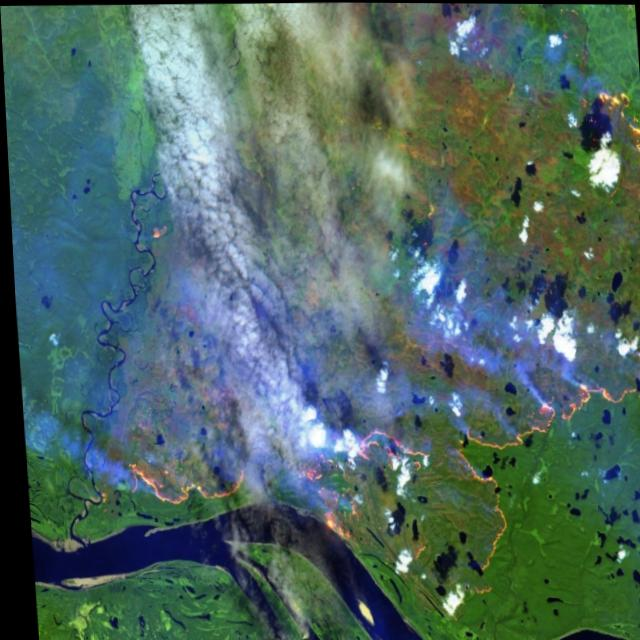fire: (91, 93, 640, 640)
